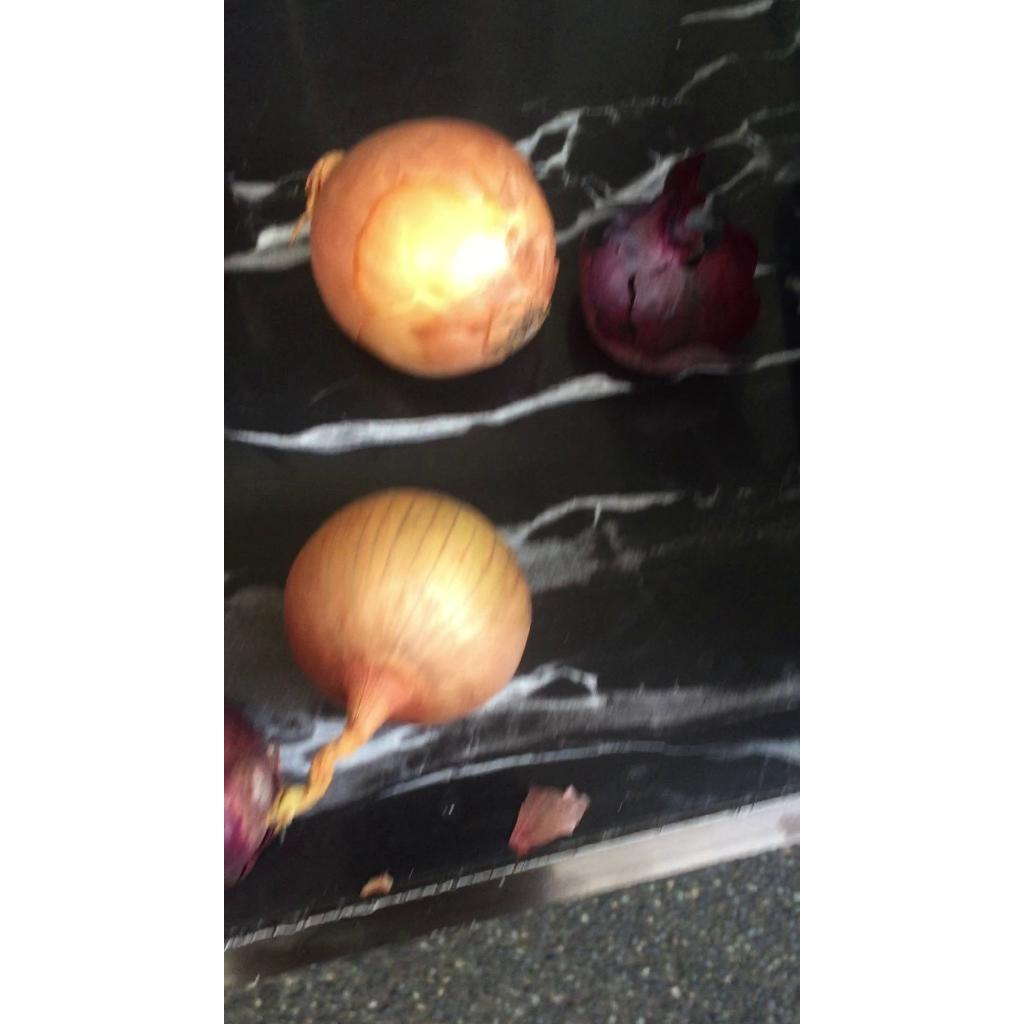Onion: (269, 489, 530, 832), (307, 117, 557, 377)
